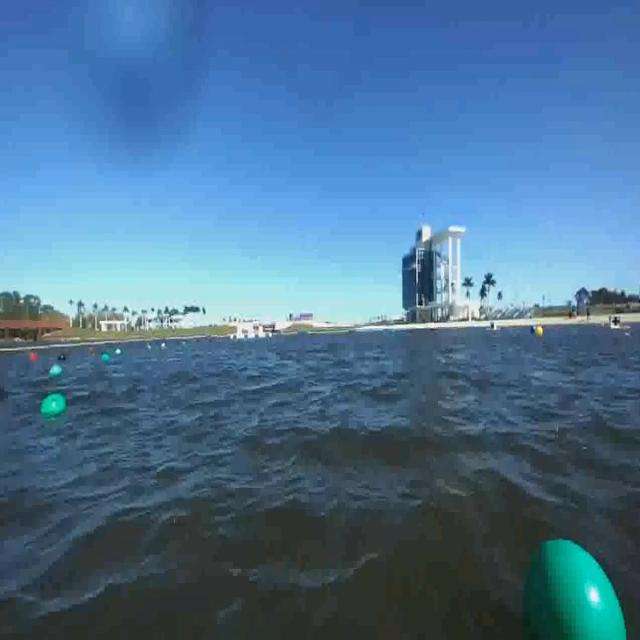black-buoy: (0, 385, 8, 401)
green-buoy: (500, 524, 640, 639), (44, 396, 69, 420), (52, 364, 65, 378), (100, 352, 109, 364)
yellow-buoy: (536, 324, 543, 337)
